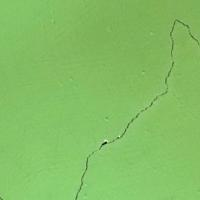crack: (64, 11, 199, 199)
